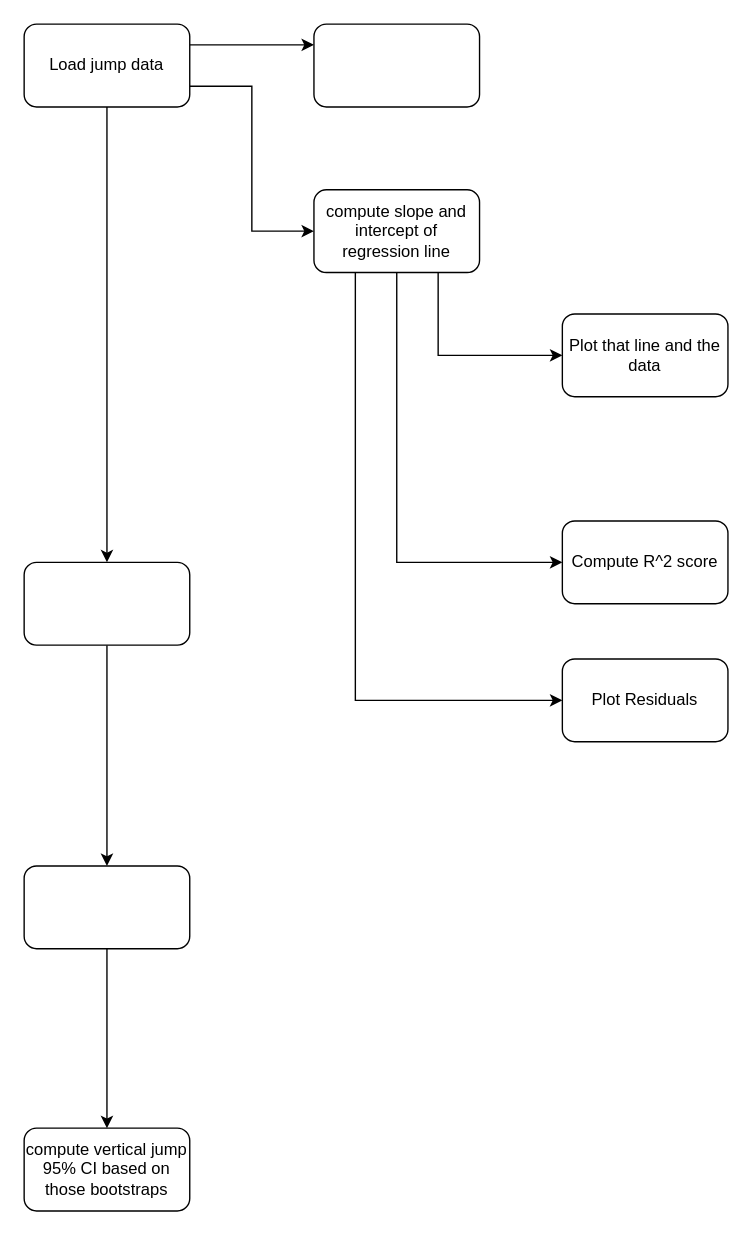
This 752x1235 diagram has some shape labels left out. Here are the shapes that lost their labels. From the top down, the box of each, then its label:
(313, 23, 480, 107): compute Pearson corrlation
(23, 561, 190, 645): bootstrap regression line for resampes of data
(23, 865, 190, 949): Plot those lines all on one plot. Use the same color for each
